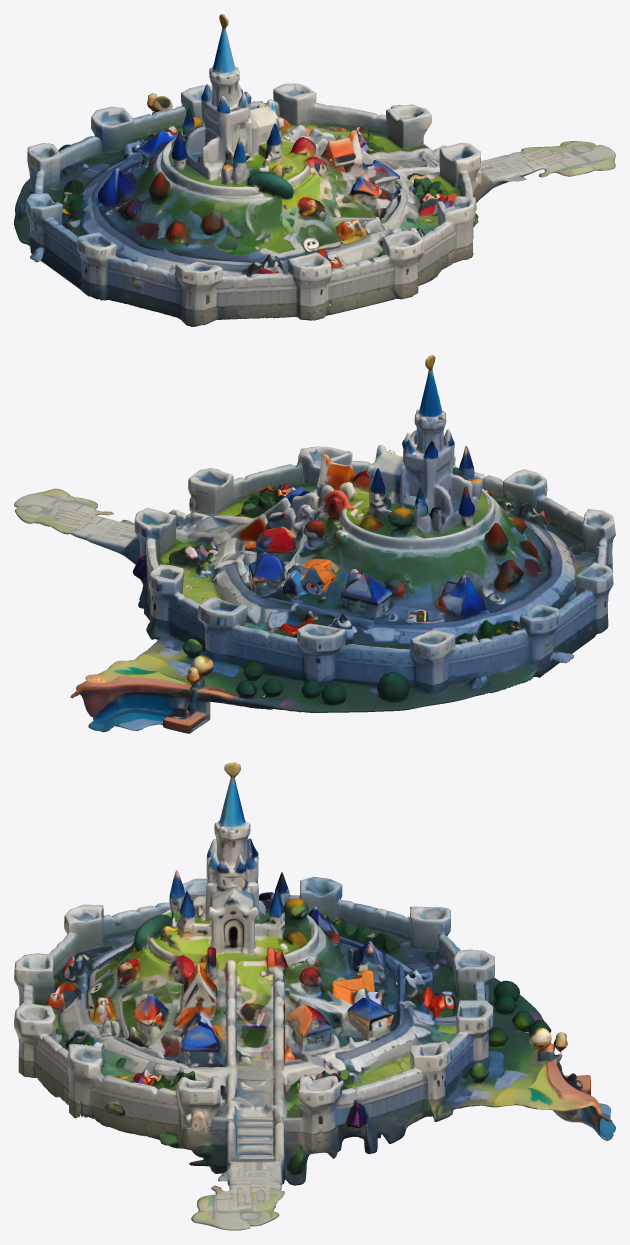
Rendered from hauptstadt.glb.
3 views of the same model, one above another, from view 1: azimuth 30°, elevation 25°; view 2: azimuth 150°, elevation 25°; view 3: azimuth 270°, elevation 25° (orthographic). The views are drawn at different scales.
Visible parts, largest first — view 1: tripo_node_c7d0d54b-d8f8-4a62-854b-ad0449c3dafa; view 2: tripo_node_c7d0d54b-d8f8-4a62-854b-ad0449c3dafa; view 3: tripo_node_c7d0d54b-d8f8-4a62-854b-ad0449c3dafa.
Boxes of the visible parts, <box> form: tripo_node_c7d0d54b-d8f8-4a62-854b-ad0449c3dafa: <box>14,14,615,326</box>; tripo_node_c7d0d54b-d8f8-4a62-854b-ad0449c3dafa: <box>14,355,615,733</box>; tripo_node_c7d0d54b-d8f8-4a62-854b-ad0449c3dafa: <box>14,762,615,1230</box>.
Bounding box in the file's own units: 0.9998 × 0.4682 × 0.85.
Materials: 1 (1 with a texture image).
